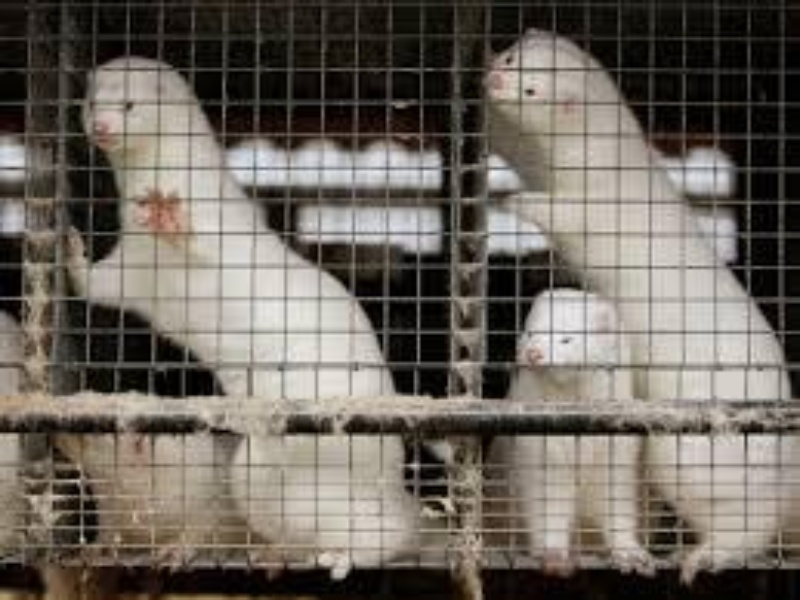minkish: (70, 54, 429, 573), (493, 32, 800, 577), (508, 289, 666, 581), (66, 406, 239, 563)
